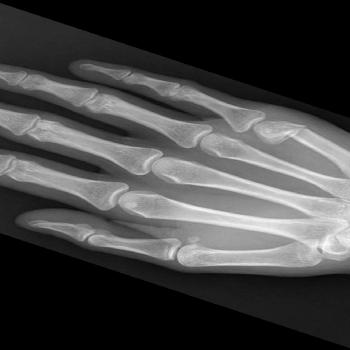Fracture: (266, 122, 297, 150)
